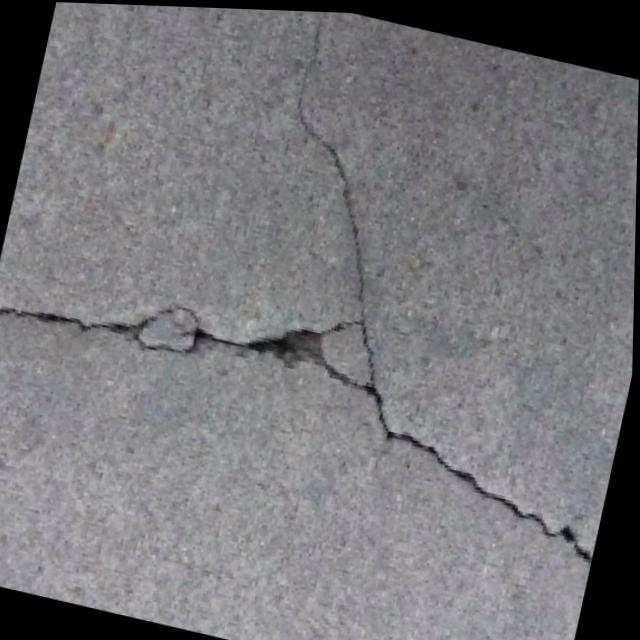Crack: (0, 249, 632, 553), (192, 6, 461, 403)
